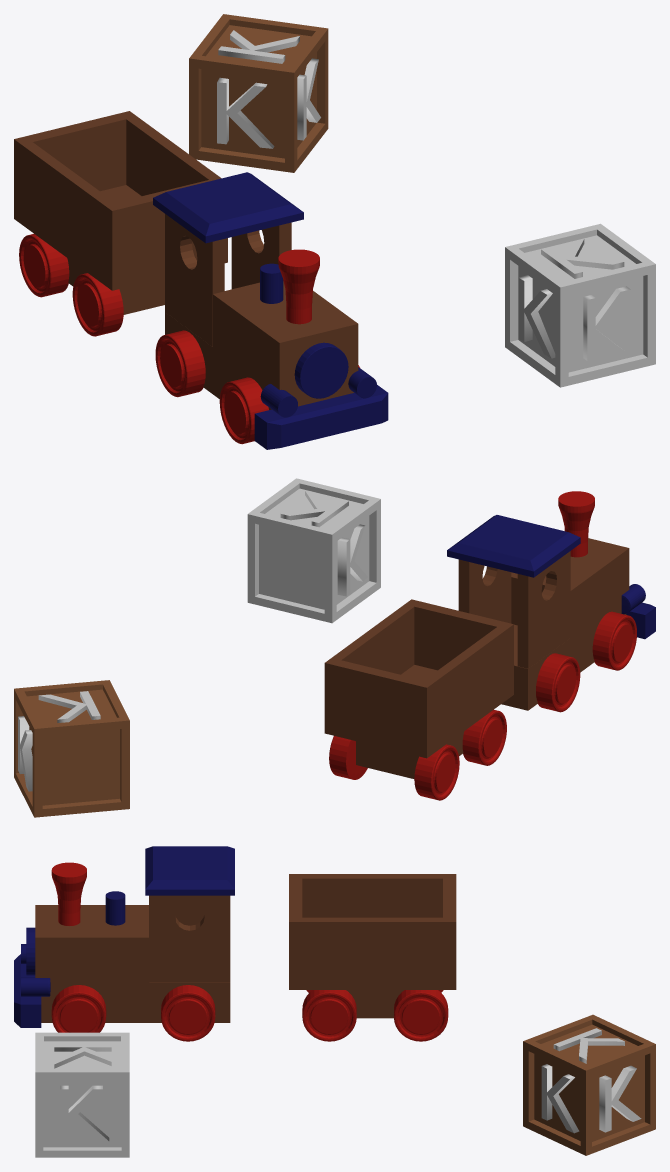
Rendered from toys.obj.
3 views of the same model, one above another, from view 1: azimuth 30°, elevation 25°; view 2: azimuth 150°, elevation 25°; view 3: azimuth 270°, elevation 25° (orthographic). The views are drawn at different scales.
Parts seen in each view (by area): view 1: Cube.006_Cube.008, Cube.007_Cube.009, Cube.008_Cube.003, Cube, Cube.005_Cube.006, Cube.004_Cube.007, Cube.001, Cylinder.010_Cylinder.019, Cube.003_Cube.005, Cylinder.011_Cylinder.020, Cylinder.012_Cylinder.021, Cylinder (+11 smaller); view 2: Cube.006_Cube.008, Cube.007_Cube.009, Cube.008_Cube.003, Cube, Cube.005_Cube.006, Cube.004_Cube.007, Cube.003_Cube.005, Cylinder.009_Cylinder.018, Cylinder.010_Cylinder.019, Cylinder.012_Cylinder.021, Cylinder.011_Cylinder.020, Cylinder.003 (+8 smaller); view 3: Cube.006_Cube.008, Cube.008_Cube.003, Cube, Cube.007_Cube.009, Cube.003_Cube.005, Cube.005_Cube.006, Cylinder.006_Cylinder.015, Cylinder.007_Cylinder.016, Cylinder.008_Cylinder.017, Cylinder.005_Cylinder.006, Cylinder.003, Cube.002 (+10 smaller).
Boxes of the visible parts, x1,y1,x2,y2 form: Cube.006_Cube.008: (14, 111, 227, 314); Cube.007_Cube.009: (505, 223, 655, 387); Cube.008_Cube.003: (189, 14, 328, 172); Cube: (212, 281, 358, 409); Cube.005_Cube.006: (153, 172, 303, 243); Cube.004_Cube.007: (165, 214, 224, 346); Cube.001: (254, 385, 388, 449); Cylinder.010_Cylinder.019: (155, 330, 205, 397); Cube.003_Cube.005: (231, 222, 291, 289); Cylinder.011_Cylinder.020: (72, 273, 123, 336); Cylinder.012_Cylinder.021: (19, 234, 69, 297); Cylinder: (294, 342, 348, 398); Cube.006_Cube.008: (324, 599, 513, 778); Cube.007_Cube.009: (247, 478, 380, 623); Cube.008_Cube.003: (14, 680, 129, 817); Cube: (511, 538, 629, 672); Cube.005_Cube.006: (447, 515, 580, 577); Cube.004_Cube.007: (517, 551, 570, 668); Cube.003_Cube.005: (458, 559, 511, 623); Cylinder.009_Cylinder.018: (592, 611, 636, 670); Cylinder.010_Cylinder.019: (536, 653, 580, 712); Cylinder.012_Cylinder.021: (414, 744, 459, 800); Cylinder.011_Cylinder.020: (462, 709, 506, 765); Cylinder.003: (558, 491, 594, 557); Cube.006_Cube.008: (289, 874, 456, 1018); Cube.008_Cube.003: (523, 1014, 655, 1155); Cube: (35, 905, 149, 1022); Cube.007_Cube.009: (35, 1032, 129, 1157); Cube.003_Cube.005: (149, 895, 230, 982); Cube.005_Cube.006: (145, 846, 234, 895); Cylinder.006_Cylinder.015: (161, 985, 215, 1041); Cylinder.007_Cylinder.016: (302, 990, 356, 1041); Cylinder.008_Cylinder.017: (394, 990, 448, 1041); Cylinder.005_Cylinder.006: (51, 985, 106, 1032); Cylinder.003: (51, 862, 86, 925); Cube.002: (149, 982, 230, 1022).
Size of what is drawn, in the model's own units: 8.34 by 3.63 by 13.65.
